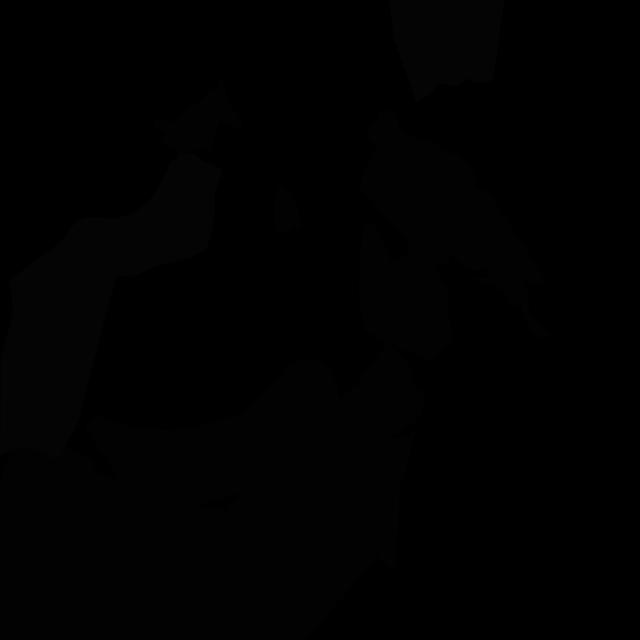cardboard: (225, 343, 425, 640), (0, 447, 290, 640), (358, 109, 556, 362), (85, 358, 341, 513), (343, 431, 416, 574), (154, 78, 244, 157), (275, 185, 302, 236)
soft_plastic: (0, 153, 223, 460), (389, 0, 504, 103)
